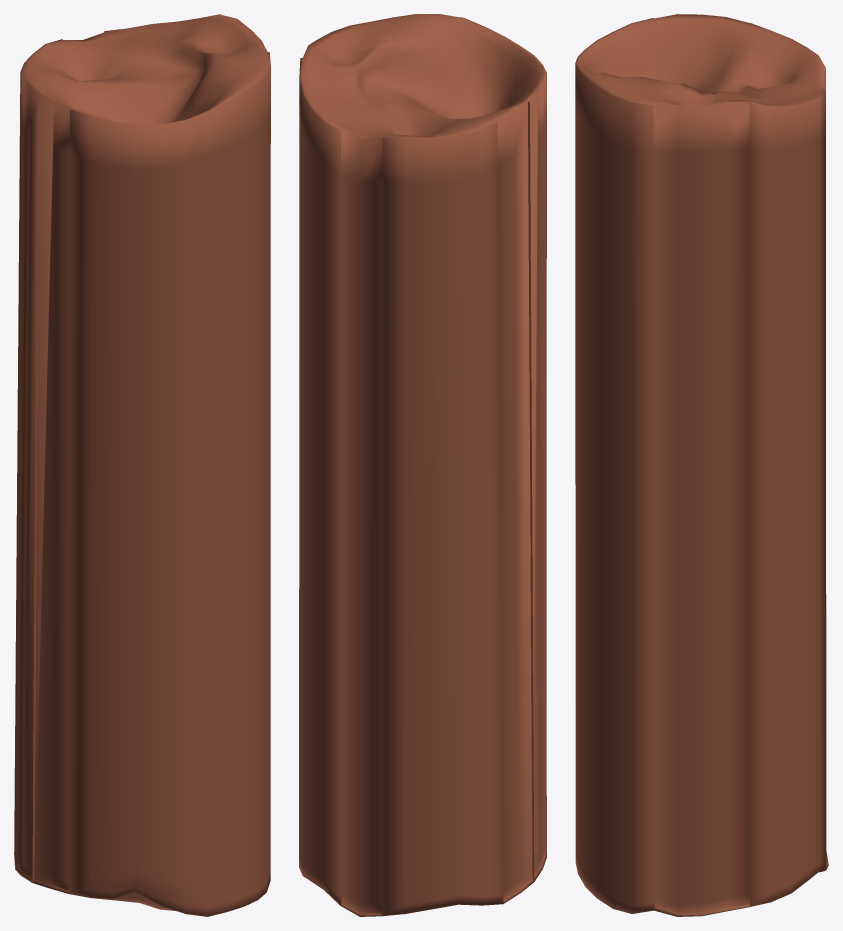
Rendered from pellet.fbx.
The picture shows the model from 3 angles, left to right: view 1: azimuth 30°, elevation 25°; view 2: azimuth 150°, elevation 25°; view 3: azimuth 270°, elevation 25°; orthographic projection.
Parts seen in each view (by area): view 1: pellet; view 2: pellet; view 3: pellet.
Part boxes in pixels (box(x1,y1,x2,y2)): pellet: box(14, 14, 270, 916); pellet: box(299, 14, 546, 916); pellet: box(575, 14, 828, 916).
Bounding box in the file's own units: 0.0232 × 0.0837 × 0.0232.
